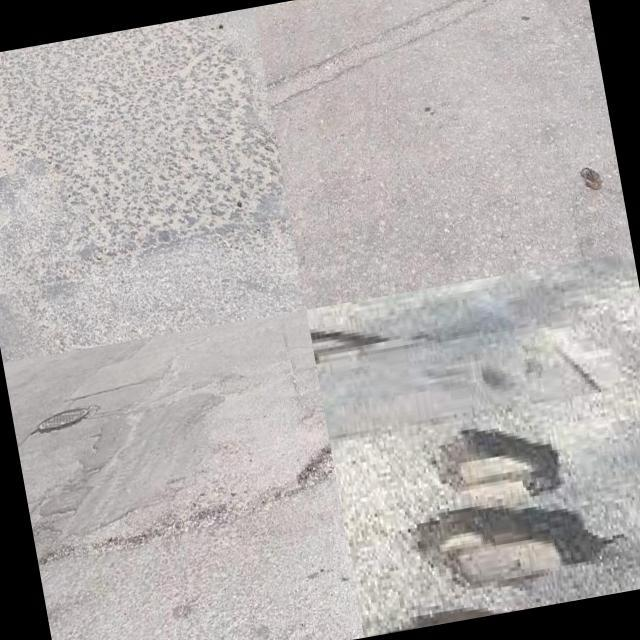Pothole: (409, 508, 609, 589), (429, 426, 558, 493), (294, 441, 336, 490), (310, 331, 377, 351)
